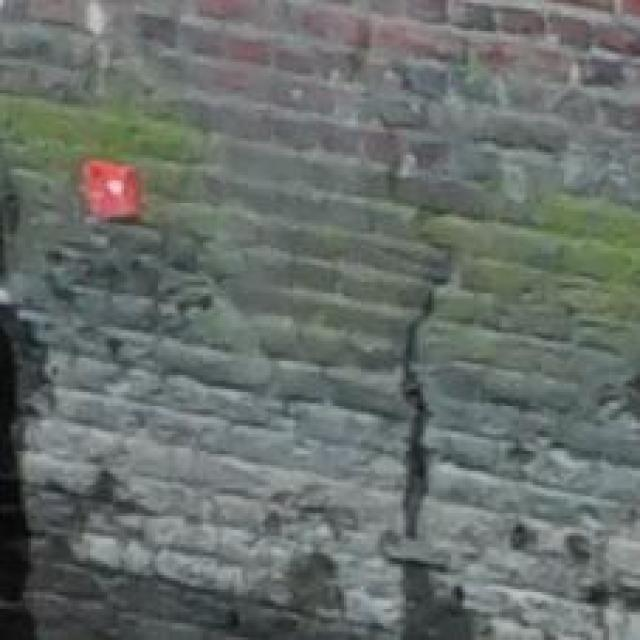Crack: (361, 152, 487, 569)
